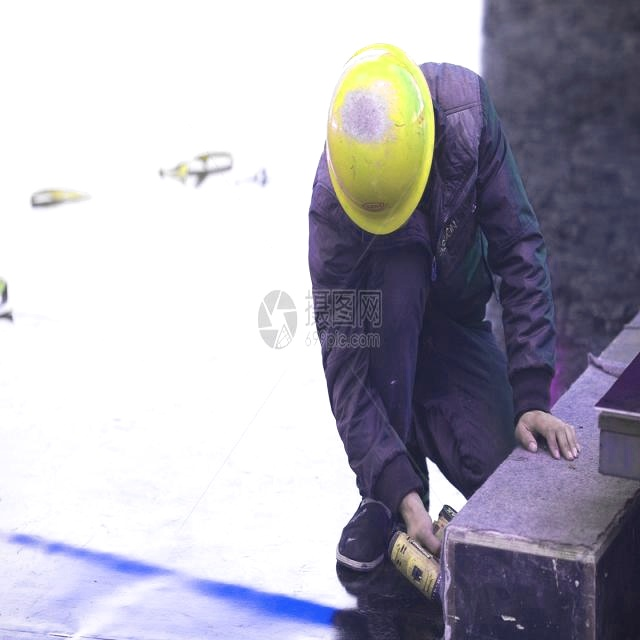Con_Casco: (321, 38, 438, 225)
